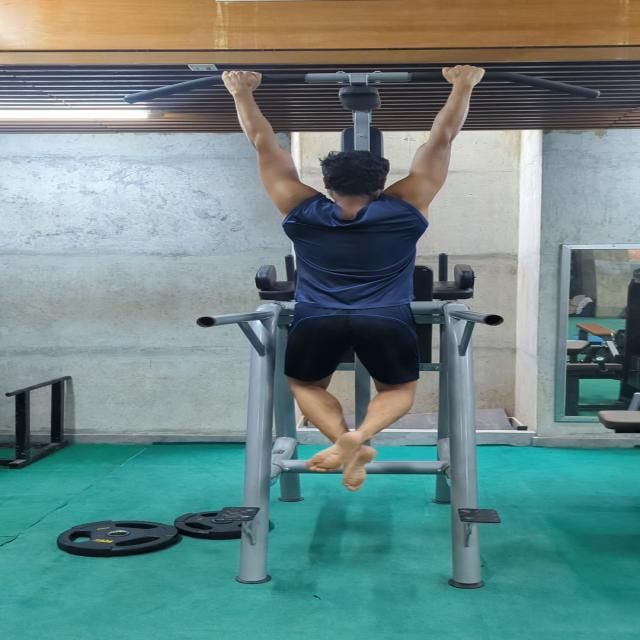Normal_PullUps: (210, 62, 503, 494)
